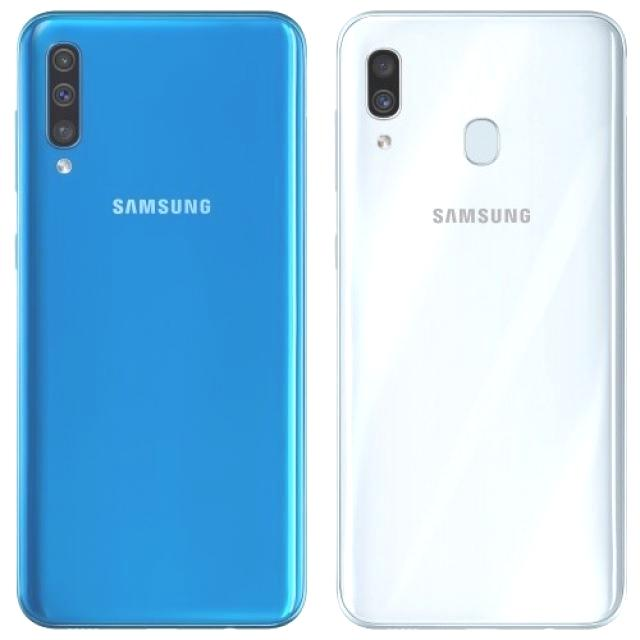lens: (49, 39, 83, 150), (366, 49, 401, 120)
phone: (332, 6, 631, 631), (16, 8, 311, 634)
